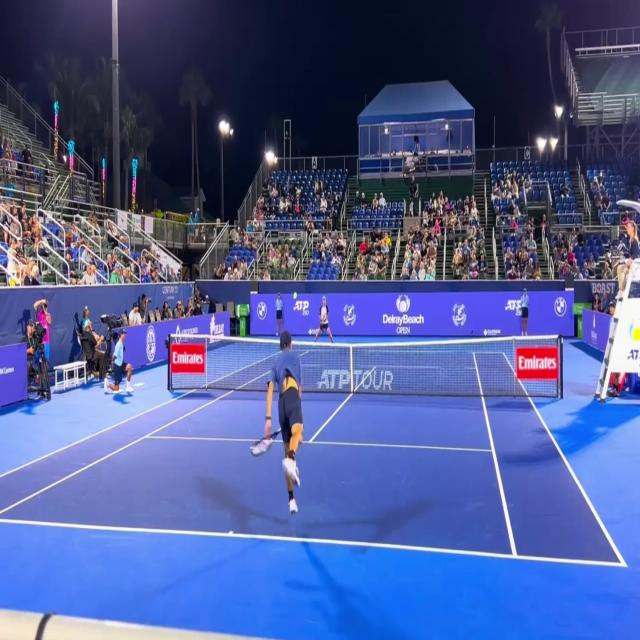tennisBall: (293, 290, 299, 302)
